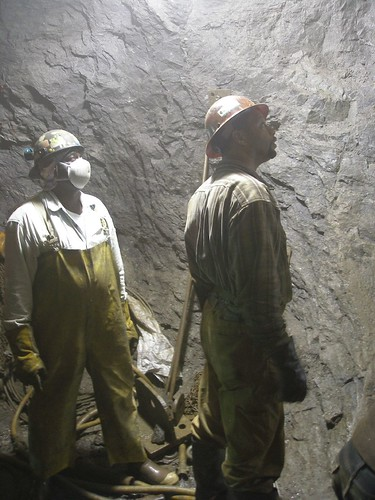person hardhat: (182, 93, 330, 495), (5, 131, 166, 481)
